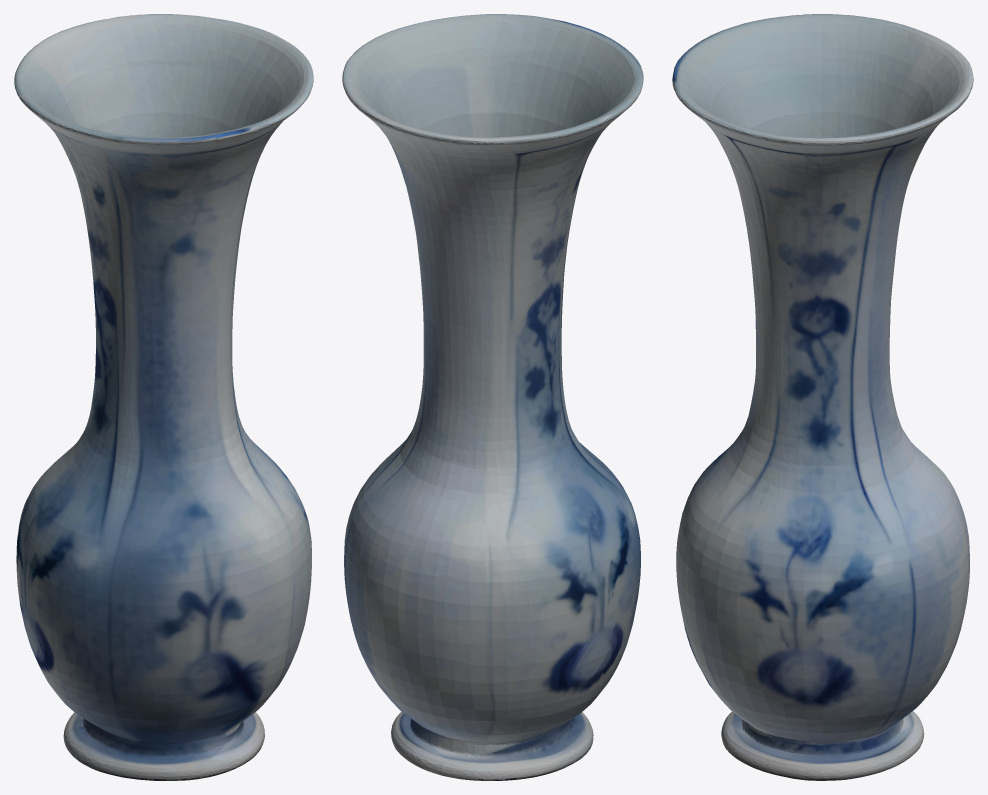
3 views of the same model, side by side, from view 1: azimuth 30°, elevation 25°; view 2: azimuth 150°, elevation 25°; view 3: azimuth 270°, elevation 25° (orthographic).
Parts seen in each view (by area): view 1: vase.obj; view 2: vase.obj; view 3: vase.obj.
Part boxes in pixels (x1=…): vase.obj: x1=14, y1=14, x2=313, y2=780; vase.obj: x1=342, y1=14, x2=643, y2=780; vase.obj: x1=672, y1=14, x2=973, y2=780.
Bounding box in the file's own units: 0.144 × 0.35 × 0.144.
1 material, 1 textured.
